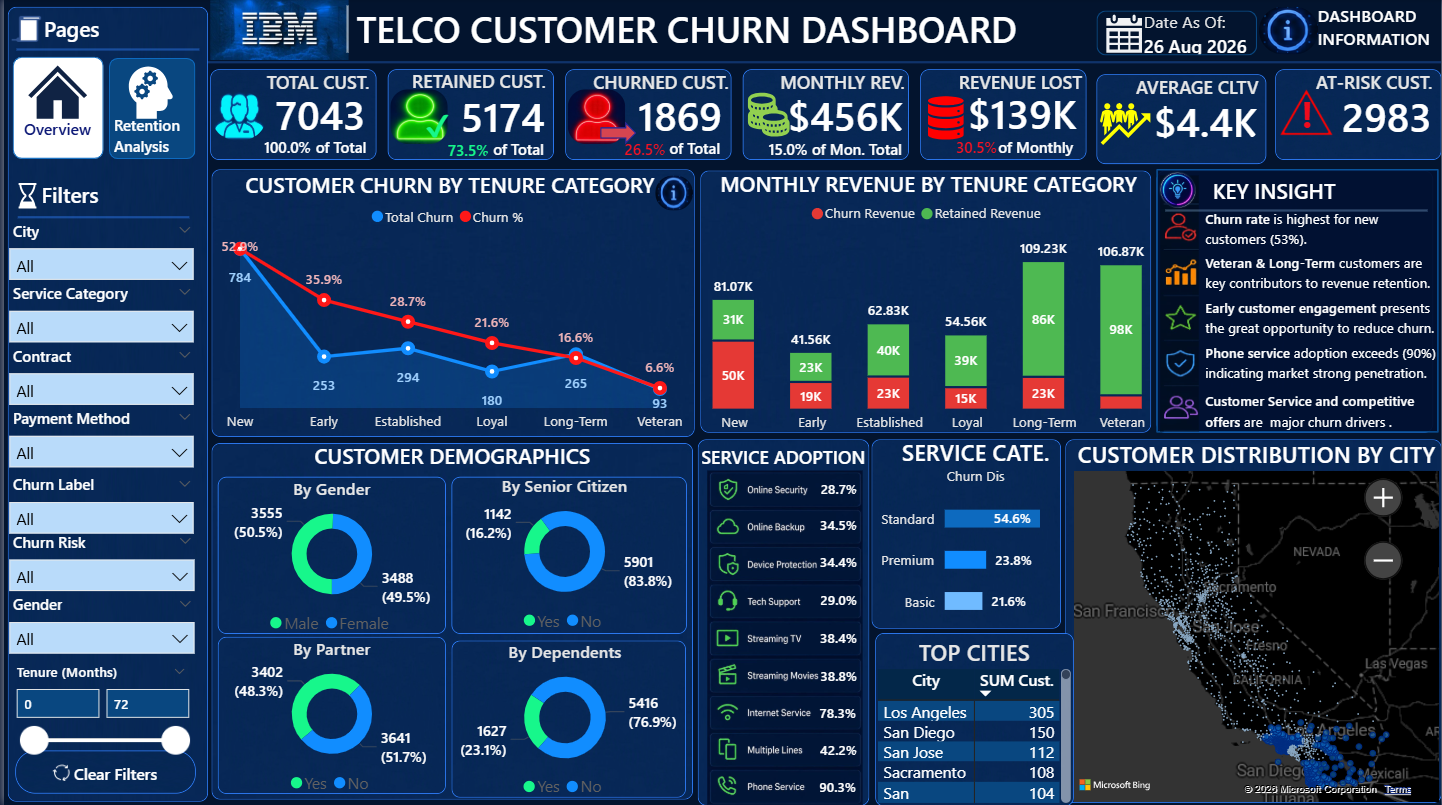

The dashboard page shown, as its layout file describes it:
{"tool":"powerbi","page":{"name":"Overview","canvas":[1280,720],"ordinal":0},"visuals":[{"type":"image","box":[1117.6,8.2,53,42.3],"z":0,"group":"g22"},{"type":"cardVisual","fields":{"Data":["_Measures.Date As Of"]},"box":[972.9,11.5,143.5,40.9],"z":0,"group":"g26"},{"type":"group","id":"g1","title":"Group 5","box":[8,52,85,91],"z":0,"group":"g17"},{"type":"group","id":"g2","title":"Group 7","box":[8,52,85,91],"z":0,"group":"g1"},{"type":"shape","box":[8,52,81,91],"z":0,"group":"g2"},{"type":"shape","box":[94,53,77,90],"z":0,"group":"g6"},{"type":"image","box":[1132,63,148,81],"z":0,"group":"g16"},{"type":"image","box":[973.7,67.5,151,80],"z":0,"group":"g21"},{"type":"textbox","box":[1145.5,81.2,30.2,78.4],"z":0,"group":"g28"},{"type":"image","box":[344.4,81.3,50.8,49.2],"z":0,"group":"g29"},{"type":"image","box":[501.5,81.8,50.8,49.2],"z":0,"group":"g30"},{"type":"image","box":[184.3,152.9,430,238],"z":0,"group":"g11"},{"type":"image","box":[1026.4,153.6,246,233.8],"z":0},{"type":"image","box":[620.6,154.1,401.2,233.8],"z":0,"group":"g20"},{"type":"image","box":[1027.5,154.7,35.6,32.3],"z":0,"group":"g23"},{"type":"image","box":[580,157.8,33.6,31.5],"z":0,"group":"g27"},{"type":"slicer","fields":{"Values":["dim_service.Service_Category"]},"box":[0,253.5,174,60],"z":0,"group":"g24"},{"type":"group","id":"g3","title":"Group 20","box":[772.8,393.1,170,169],"z":0,"group":"g19"},{"type":"group","id":"g4","title":"Group 19","box":[772.8,393.1,170,169],"z":0,"group":"g3"},{"type":"image","box":[772.8,393.1,168.9,169],"z":0,"group":"g4"},{"type":"image","box":[617.4,393.3,153.1,326.5],"z":0,"group":"g13"},{"type":"image","box":[945.1,393.4,334.8,324.4],"z":0,"group":"g15"},{"type":"group","id":"g5","title":"Group 16","box":[185,395.3,453.3,319.8],"z":0,"group":"g9"},{"type":"image","box":[185,395.3,429,317.8],"z":0,"group":"g5"},{"type":"image","box":[622.1,421,146.3,297.8],"z":0,"group":"g7"},{"type":"image","box":[398.3,425.1,209.8,139.8],"z":0,"group":"g12"},{"type":"image","box":[190.6,425.3,203.6,139.8],"z":0,"group":"g8"},{"type":"image","box":[775.6,565.6,176.7,154.4],"z":0,"group":"g18"},{"type":"image","box":[190.9,567.8,203.3,140],"z":0,"group":"g10"},{"type":"image","box":[398.4,570.9,208.9,140],"z":0,"group":"g14"},{"type":"image","box":[10,670,160.9,38],"z":0,"group":"g25"},{"type":"image","box":[974.7,8.2,45,48.2],"z":1000,"group":"g26"},{"type":"pieChart","fields":{"Category":["dim_churn.Churn_Label"],"Y":["_Measures.Churn %"]},"box":[1121.1,13.4,42.4,40.8],"z":1000,"group":"g22"},{"type":"group","id":"g6","title":"Group 6","box":[94,53,77,91],"z":1000,"group":"g17"},{"type":"image","box":[94,57,74,55],"z":1000,"group":"g6"},{"type":"image","box":[816,63,148,81],"z":1000,"group":"g16"},{"type":"textbox","box":[996,68,122,27],"z":1000,"group":"g21"},{"type":"image","box":[1135.8,79.9,48.9,42.4],"z":1000,"group":"g28"},{"type":"textbox","box":[375.8,94.2,32,46.7],"z":1000,"group":"g29"},{"type":"textbox","box":[18,107,75,24],"z":1000,"group":"g2"},{"type":"shape","box":[530.4,110.7,32.2,20],"z":1000,"group":"g30"},{"type":"columnChart","title":"MONTHLY REVENUE BY TENURE CATEGORY","fields":{"Y":["_Service Measures.churn monthly charges","_Service Measures.retained monthly charges"],"Category":["fact_customer_churn.Cust_Tenure_Group"]},"box":[603.5,150.3,440,240],"z":1000,"group":"g20"},{"type":"areaChart","title":"CUSTOMER CHURN BY TENURE CATEGORY","fields":{"Y":["_Measures.Total Churn Customers"],"Y2":["_Measures.Churn %"],"Category":["fact_customer_churn.Cust_Tenure_Group"]},"box":[179.9,150.5,433.8,240],"z":1000,"group":"g11"},{"type":"shape","box":[1026.7,152.2,251.1,234.4],"z":1000},{"type":"textbox","box":[1076.4,158.8,111.3,26.7],"z":1000,"group":"g23"},{"type":"pieChart","fields":{"Category":["dim_churn.Churn_Label"],"Y":["_Measures.Churn %"]},"box":[582.2,161.7,26.8,30.4],"z":1000,"group":"g27"},{"type":"slicer","fields":{"Values":["dim_location.City"]},"box":[0,198,174,60],"z":1000,"group":"g24"},{"type":"map","title":"CUSTOMER DISTRIBUTION BY CITY","fields":{"Size":["_Measures.Total Customers"],"Y":["dim_location.Latitude"],"X":["dim_location.Longitude"]},"box":[950.6,379,329.6,339],"z":1000,"group":"g15"},{"type":"clusteredBarChart","title":"SERVICE CATE.","fields":{"Category":["dim_service.Service_Category"],"Y":["_Measures.%CHURN Service Dis"]},"box":[772.8,387.8,185.6,174.4],"z":1000,"group":"g19"},{"type":"textbox","box":[208.8,394.6,382.2,26.7],"z":1000,"group":"g9"},{"type":"group","id":"g7","title":"Group 21","box":[622.1,421,145.9,296.9],"z":1000,"group":"g13"},{"type":"donutChart","title":"By Senior Citizen","fields":{"Y":["_Measures.Total Customers"],"Category":["dim_customer.Senior_Citizen"]},"box":[398.3,423.1,201.5,144.7],"z":1000,"group":"g12"},{"type":"group","id":"g8","title":"Group 12","box":[190.6,425.3,203.6,144.7],"z":1000,"group":"g5"},{"type":"donutChart","title":"By Gender","fields":{"Category":["dim_customer.Gender"],"Y":["_Measures.Total Customers"]},"box":[195.8,425.3,192.2,144.7],"z":1000,"group":"g8"},{"type":"cardVisual","fields":{"Data":["_Service Measures.% 1_OS"]},"box":[707.3,426.5,52.8,18.7],"z":1000,"group":"g7"},{"type":"donutChart","title":"By Partner","fields":{"Y":["_Measures.Total Customers"],"Category":["dim_customer.Partner"]},"box":[196.5,567.8,192.2,144.4],"z":1000,"group":"g10"},{"type":"pivotTable","title":"TOP CITIES","fields":{"Rows":["dim_location.City"],"Values":["_Measures.Total Customers"]},"box":[777.8,568.9,172.2,147.8],"z":1000,"group":"g18"},{"type":"donutChart","title":"By Dependents","fields":{"Y":["_Measures.Total Customers"],"Category":["dim_customer.Dependents"]},"box":[360.6,570.6,277.8,144.4],"z":1000,"group":"g14"},{"type":"actionButton","box":[8.9,670,158.8,36.1],"z":1000,"group":"g25"},{"type":"pageNavigator","box":[6,51,169,96],"z":2000,"group":"g17"},{"type":"image","box":[18,52,60,63],"z":2000,"group":"g2"},{"type":"image","box":[658,63,148,81],"z":2000,"group":"g16"},{"type":"image","box":[973.3,85.6,51.1,51.1],"z":2000,"group":"g21"},{"type":"textbox","box":[99,103,67,41],"z":2000,"group":"g6"},{"type":"shape","box":[1034.2,180.3,233.8,17.8],"z":2000,"group":"g23"},{"type":"slicer","fields":{"Values":["dim_contract.Contract"]},"box":[0,309,174,60],"z":2000,"group":"g24"},{"type":"group","id":"g9","title":"Group 17","box":[185,394.6,453.3,320.4],"z":2000},{"type":"textbox","box":[607.8,397.5,172.4,25.5],"z":2000,"group":"g13"},{"type":"cardVisual","fields":{"Data":["_Service Measures.% 2_OB"]},"box":[707.3,458.8,52.9,18.6],"z":2000,"group":"g7"},{"type":"group","id":"g10","title":"Group 13","box":[190.9,567.8,203.3,144.4],"z":2000,"group":"g5"},{"type":"shape","box":[165,51,1115,12],"z":3000,"group":"g16"},{"type":"cardVisual","fields":{"Data":["_Measures.Avg CLTV"]},"box":[1006.6,88.9,110,36.7],"z":3000,"group":"g21"},{"type":"group","id":"g11","title":"Group 18","box":[179.9,150.5,434.4,240.4],"z":3000},{"type":"group","id":"g12","title":"Group 14","box":[398.3,423.1,209.8,144.7],"z":3000,"group":"g5"},{"type":"slicer","fields":{"Values":["dim_churn.Churn_Risk"]},"box":[0,475.5,174.4,60],"z":3000,"group":"g24"},{"type":"cardVisual","fields":{"Data":["_Service Measures.% 3_DP"]},"box":[707.3,491.1,52.9,20.1],"z":3000,"group":"g7"},{"type":"textbox","box":[314,6,599,62],"z":4000,"group":"g16"},{"type":"group","id":"g13","title":"Group 22","box":[607.8,393.3,172.2,326.7],"z":4000},{"type":"cardVisual","fields":{"Data":["_Service Measures.% 4_TS"]},"box":[707.3,524.8,52.9,20.1],"z":4000,"group":"g7"},{"type":"slicer","fields":{"Values":["dim_customer.Gender"]},"box":[0,531,174.4,60],"z":4000,"group":"g24"},{"type":"group","id":"g14","title":"Group 15","box":[360.6,570.6,277.8,144.4],"z":4000,"group":"g5"},{"type":"image","box":[184,0,123,55],"z":5000,"group":"g16"},{"type":"slicer","fields":{"Values":["dim_contract.Payment_Method"]},"box":[0,364.5,174,60],"z":5000,"group":"g24"},{"type":"group","id":"g15","title":"Group 23","box":[945.1,379,335.1,339],"z":5000},{"type":"cardVisual","fields":{"Data":["_Service Measures.% 5_ST"]},"box":[707.3,558.5,52.9,20.1],"z":5000,"group":"g7"},{"type":"group","id":"g16","title":"Group 11","box":[0,0,1280,716],"z":6000},{"type":"image","box":[3,8,178,708],"z":6000,"group":"g16"},{"type":"cardVisual","fields":{"Data":["_Service Measures.% 6_SM"]},"box":[707.3,592.2,52.9,20.1],"z":6000,"group":"g7"},{"type":"image","box":[184,63,148,81],"z":7000,"group":"g16"},{"type":"slicer","fields":{"Values":["fact_customer_churn.Tenure_Months"]},"box":[3.3,592.2,165.6,85.6],"z":7000},{"type":"cardVisual","fields":{"Data":["_Service Measures.% 7_IS"]},"box":[707.3,625.9,51.5,20.1],"z":7000,"group":"g7"},{"type":"shape","box":[300,7,13,42],"z":8000,"group":"g16"},{"type":"slicer","fields":{"Values":["dim_churn.Churn_Label"]},"box":[0,424.4,174,60],"z":8000},{"type":"cardVisual","fields":{"Data":["_Service Measures.% 8_ML"]},"box":[707.3,659.6,52.9,18.6],"z":8000,"group":"g7"},{"type":"group","id":"g17","title":"Group 1","box":[6,51,169,96],"z":9000,"group":"g16"},{"type":"group","id":"g18","title":"Group 24","box":[775.6,565.6,176.7,154.4],"z":9000},{"type":"cardVisual","fields":{"Data":["_Service Measures.% 9_PS"]},"box":[707.3,691.8,51.5,20.1],"z":9000,"group":"g7"},{"type":"shape","box":[11.5,39.6,162.8,11.5],"z":10000,"group":"g16"},{"type":"group","id":"g19","title":"Group 25","box":[772.8,387.8,185.6,174.4],"z":10000},{"type":"textbox","box":[36,14,50,30],"z":11000,"group":"g16"},{"type":"group","id":"g20","title":"Group 18","box":[603.5,150.3,440,240],"z":11000},{"type":"group","id":"g21","title":"Group 12","box":[973.3,67.5,151.4,80],"z":12000},{"type":"shape","box":[12,189,153,12],"z":12000,"group":"g16"},{"type":"group","id":"g22","title":"Group 26","box":[1117.6,8.2,52.9,45.9],"z":13000},{"type":"image","box":[7,11,26,33],"z":13000,"group":"g16"},{"type":"textbox","box":[1169.4,5.9,110.6,47.1],"z":14000},{"type":"image","box":[3,162,35,27],"z":14000,"group":"g16"},{"type":"image","box":[1020.8,158.1,52.3,228.2],"z":15000},{"type":"textbox","box":[33,162,57,30],"z":15000,"group":"g16"},{"type":"group","id":"g23","title":"Group 13","box":[1027.5,154.7,240.4,43.4],"z":16000},{"type":"group","id":"g24","title":"Group 2","box":[0,198,174.4,393],"z":16000,"group":"g16"},{"type":"textbox","box":[1070,185.6,162.2,38.9],"z":17000},{"type":"group","id":"g25","title":"Group 3","box":[8.9,670,161.2,37.3],"z":17000,"group":"g16"},{"type":"group","id":"g26","title":"Group 4","box":[972.9,8.2,143.5,48.2],"z":18000,"group":"g16"},{"type":"textbox","box":[1070,224.4,204.4,40],"z":18000},{"type":"image","box":[184.6,83.2,48.7,43.6],"z":19000,"group":"g16"},{"type":"textbox","box":[1070,305.6,207.8,38.9],"z":19000},{"type":"textbox","box":[1151,64,121,24],"z":20000,"group":"g16"},{"type":"textbox","box":[1070,264.4,206.7,41.1],"z":20000},{"type":"textbox","box":[838,63,122,23],"z":21000,"group":"g16"},{"type":"textbox","box":[1070,348.9,204.4,38.9],"z":21000},{"type":"textbox","box":[669,63,133,22],"z":22000,"group":"g16"},{"type":"group","id":"g27","title":"Group 26","box":[580,157.8,33.3,34.4],"z":22000},{"type":"textbox","box":[230,63,95,23],"z":23000,"group":"g16"},{"type":"image","box":[342,63,148,81],"z":24000,"group":"g16"},{"type":"image","box":[500,63,148,81],"z":25000,"group":"g16"},{"type":"image","box":[811.7,82.9,54.7,48.9],"z":26000,"group":"g16"},{"type":"image","box":[659,78.1,42,52],"z":27000,"group":"g16"},{"type":"group","id":"g28","title":"Group 8","box":[1135.8,79.9,48.9,79.6],"z":28000,"group":"g16"},{"type":"group","id":"g29","title":"Group 9","box":[344.4,81.3,63.4,59.6],"z":29000,"group":"g16"},{"type":"group","id":"g30","title":"Group 10","box":[501.5,81.8,61.1,49.2],"z":30000,"group":"g16"},{"type":"textbox","box":[352,62.7,130.7,22.7],"z":31000,"group":"g16"},{"type":"textbox","box":[523,63.8,122,22],"z":32000,"group":"g16"},{"type":"cardVisual","fields":{"Data":["_Measures.Total Customers"]},"box":[239.4,85.1,85.4,35.8],"z":33000,"group":"g16"},{"type":"cardVisual","fields":{"Data":["_Measures.Total Churn Customers"]},"box":[534.6,85,105.1,35.9],"z":34000,"group":"g16"},{"type":"cardVisual","fields":{"Data":["_Measures.Total Active Customers"]},"box":[367.8,85,114.5,36.2],"z":35000,"group":"g16"},{"type":"cardVisual","fields":{"Data":["_Measures.Churn Revenue Loss"]},"box":[854,84,106.7,35.6],"z":36000,"group":"g16"},{"type":"cardVisual","fields":{"Data":["_Measures.At-Risk Cust."]},"box":[1184.7,85,87.6,36.5],"z":37000,"group":"g16"},{"type":"cardVisual","fields":{"Data":["_Measures.Monthly Charges"]},"box":[697,84.5,105.1,35.9],"z":38000,"group":"g16"},{"type":"cardVisual","fields":{"Data":["_Measures.% of Total"]},"box":[222,122.5,52.5,18.9],"z":39000,"group":"g16"},{"type":"cardVisual","fields":{"Data":["_Measures.Churn %"]},"box":[533,123.3,56.7,19.7],"z":40000,"group":"g16"},{"type":"cardVisual","fields":{"Data":["_Measures.Active %"]},"box":[381,124.2,51.7,18.5],"z":41000,"group":"g16"},{"type":"cardVisual","fields":{"Data":["_Measures.% Churn Revenue Loss"]},"box":[830,122.9,54.2,19.3],"z":42000,"group":"g16"},{"type":"textbox","box":[274,123,58,18],"z":43000,"group":"g16"},{"type":"textbox","box":[589,124,69,21],"z":44000,"group":"g16"},{"type":"textbox","box":[432,125,58,18],"z":45000,"group":"g16"},{"type":"textbox","box":[882,123,84,21],"z":46000,"group":"g16"},{"type":"textbox","box":[715.6,124.4,123.3,21.1],"z":46501},{"type":"cardVisual","fields":{"Data":["_Measures.% Monthly Total"]},"box":[663.3,115.6,52.2,35.6],"z":47001}]}

Visuals, with their boxes on the page's 1280x720 design canvas (x1, y1, x2, y2). These are canvas units, not pixel positions in the 1442x805 screenshot, which may show the page scaled, cropped or inside an application window:
image: pyautogui.locateOnScreen(1118, 8, 1171, 50)
cardVisual - _Measures.Date As Of: pyautogui.locateOnScreen(973, 12, 1116, 52)
"Group 5" group: pyautogui.locateOnScreen(8, 52, 93, 143)
"Group 7" group: pyautogui.locateOnScreen(8, 52, 93, 143)
shape: pyautogui.locateOnScreen(8, 52, 89, 143)
shape: pyautogui.locateOnScreen(94, 53, 171, 143)
image: pyautogui.locateOnScreen(1132, 63, 1280, 144)
image: pyautogui.locateOnScreen(974, 68, 1125, 148)
textbox: pyautogui.locateOnScreen(1146, 81, 1176, 160)
image: pyautogui.locateOnScreen(344, 81, 395, 130)
image: pyautogui.locateOnScreen(502, 82, 552, 131)
image: pyautogui.locateOnScreen(184, 153, 614, 391)
image: pyautogui.locateOnScreen(1026, 154, 1272, 387)
image: pyautogui.locateOnScreen(621, 154, 1022, 388)
image: pyautogui.locateOnScreen(1028, 155, 1063, 187)
image: pyautogui.locateOnScreen(580, 158, 614, 189)
slicer - dim_service.Service_Category: pyautogui.locateOnScreen(0, 254, 174, 314)
"Group 20" group: pyautogui.locateOnScreen(773, 393, 943, 562)
"Group 19" group: pyautogui.locateOnScreen(773, 393, 943, 562)
image: pyautogui.locateOnScreen(773, 393, 942, 562)
image: pyautogui.locateOnScreen(617, 393, 770, 720)
image: pyautogui.locateOnScreen(945, 393, 1280, 718)
"Group 16" group: pyautogui.locateOnScreen(185, 395, 638, 715)
image: pyautogui.locateOnScreen(185, 395, 614, 713)
image: pyautogui.locateOnScreen(622, 421, 768, 719)
image: pyautogui.locateOnScreen(398, 425, 608, 565)
image: pyautogui.locateOnScreen(191, 425, 394, 565)
image: pyautogui.locateOnScreen(776, 566, 952, 720)
image: pyautogui.locateOnScreen(191, 568, 394, 708)
image: pyautogui.locateOnScreen(398, 571, 607, 711)
image: pyautogui.locateOnScreen(10, 670, 171, 708)
image: pyautogui.locateOnScreen(975, 8, 1020, 56)
pieChart - dim_churn.Churn_Label x _Measures.Churn %: pyautogui.locateOnScreen(1121, 13, 1164, 54)
"Group 6" group: pyautogui.locateOnScreen(94, 53, 171, 144)
image: pyautogui.locateOnScreen(94, 57, 168, 112)
image: pyautogui.locateOnScreen(816, 63, 964, 144)
textbox: pyautogui.locateOnScreen(996, 68, 1118, 95)
image: pyautogui.locateOnScreen(1136, 80, 1185, 122)
textbox: pyautogui.locateOnScreen(376, 94, 408, 141)
textbox: pyautogui.locateOnScreen(18, 107, 93, 131)
shape: pyautogui.locateOnScreen(530, 111, 563, 131)
"MONTHLY REVENUE BY TENURE CATEGORY" columnChart: pyautogui.locateOnScreen(604, 150, 1044, 390)
"CUSTOMER CHURN BY TENURE CATEGORY" areaChart: pyautogui.locateOnScreen(180, 150, 614, 390)
shape: pyautogui.locateOnScreen(1027, 152, 1278, 387)
textbox: pyautogui.locateOnScreen(1076, 159, 1188, 186)
pieChart - dim_churn.Churn_Label x _Measures.Churn %: pyautogui.locateOnScreen(582, 162, 609, 192)
slicer - dim_location.City: pyautogui.locateOnScreen(0, 198, 174, 258)
"CUSTOMER DISTRIBUTION BY CITY" map: pyautogui.locateOnScreen(951, 379, 1280, 718)
"SERVICE CATE." clusteredBarChart: pyautogui.locateOnScreen(773, 388, 958, 562)
textbox: pyautogui.locateOnScreen(209, 395, 591, 421)
"Group 21" group: pyautogui.locateOnScreen(622, 421, 768, 718)
"By Senior Citizen" donutChart: pyautogui.locateOnScreen(398, 423, 600, 568)
"Group 12" group: pyautogui.locateOnScreen(191, 425, 394, 570)
"By Gender" donutChart: pyautogui.locateOnScreen(196, 425, 388, 570)
cardVisual - _Service Measures.% 1_OS: pyautogui.locateOnScreen(707, 426, 760, 445)
"By Partner" donutChart: pyautogui.locateOnScreen(196, 568, 389, 712)
"TOP CITIES" pivotTable: pyautogui.locateOnScreen(778, 569, 950, 717)
"By Dependents" donutChart: pyautogui.locateOnScreen(361, 571, 638, 715)
actionButton: pyautogui.locateOnScreen(9, 670, 168, 706)
pageNavigator: pyautogui.locateOnScreen(6, 51, 175, 147)
image: pyautogui.locateOnScreen(18, 52, 78, 115)
image: pyautogui.locateOnScreen(658, 63, 806, 144)
image: pyautogui.locateOnScreen(973, 86, 1024, 137)
textbox: pyautogui.locateOnScreen(99, 103, 166, 144)
shape: pyautogui.locateOnScreen(1034, 180, 1268, 198)
slicer - dim_contract.Contract: pyautogui.locateOnScreen(0, 309, 174, 369)
"Group 17" group: pyautogui.locateOnScreen(185, 395, 638, 715)
textbox: pyautogui.locateOnScreen(608, 398, 780, 423)
cardVisual - _Service Measures.% 2_OB: pyautogui.locateOnScreen(707, 459, 760, 477)
"Group 13" group: pyautogui.locateOnScreen(191, 568, 394, 712)
shape: pyautogui.locateOnScreen(165, 51, 1280, 63)
cardVisual - _Measures.Avg CLTV: pyautogui.locateOnScreen(1007, 89, 1117, 126)
"Group 18" group: pyautogui.locateOnScreen(180, 150, 614, 391)
"Group 14" group: pyautogui.locateOnScreen(398, 423, 608, 568)
slicer - dim_churn.Churn_Risk: pyautogui.locateOnScreen(0, 476, 174, 536)
cardVisual - _Service Measures.% 3_DP: pyautogui.locateOnScreen(707, 491, 760, 511)
textbox: pyautogui.locateOnScreen(314, 6, 913, 68)
"Group 22" group: pyautogui.locateOnScreen(608, 393, 780, 720)
cardVisual - _Service Measures.% 4_TS: pyautogui.locateOnScreen(707, 525, 760, 545)
slicer - dim_customer.Gender: pyautogui.locateOnScreen(0, 531, 174, 591)
"Group 15" group: pyautogui.locateOnScreen(361, 571, 638, 715)
image: pyautogui.locateOnScreen(184, 0, 307, 55)
slicer - dim_contract.Payment_Method: pyautogui.locateOnScreen(0, 364, 174, 424)
"Group 23" group: pyautogui.locateOnScreen(945, 379, 1280, 718)
cardVisual - _Service Measures.% 5_ST: pyautogui.locateOnScreen(707, 558, 760, 579)
"Group 11" group: pyautogui.locateOnScreen(0, 0, 1280, 716)
image: pyautogui.locateOnScreen(3, 8, 181, 716)
cardVisual - _Service Measures.% 6_SM: pyautogui.locateOnScreen(707, 592, 760, 612)
image: pyautogui.locateOnScreen(184, 63, 332, 144)
slicer - fact_customer_churn.Tenure_Months: pyautogui.locateOnScreen(3, 592, 169, 678)
cardVisual - _Service Measures.% 7_IS: pyautogui.locateOnScreen(707, 626, 759, 646)
shape: pyautogui.locateOnScreen(300, 7, 313, 49)
slicer - dim_churn.Churn_Label: pyautogui.locateOnScreen(0, 424, 174, 484)
cardVisual - _Service Measures.% 8_ML: pyautogui.locateOnScreen(707, 660, 760, 678)
"Group 1" group: pyautogui.locateOnScreen(6, 51, 175, 147)
"Group 24" group: pyautogui.locateOnScreen(776, 566, 952, 720)
cardVisual - _Service Measures.% 9_PS: pyautogui.locateOnScreen(707, 692, 759, 712)
shape: pyautogui.locateOnScreen(12, 40, 174, 51)
"Group 25" group: pyautogui.locateOnScreen(773, 388, 958, 562)
textbox: pyautogui.locateOnScreen(36, 14, 86, 44)
"Group 18" group: pyautogui.locateOnScreen(604, 150, 1044, 390)
"Group 12" group: pyautogui.locateOnScreen(973, 68, 1125, 148)
shape: pyautogui.locateOnScreen(12, 189, 165, 201)
"Group 26" group: pyautogui.locateOnScreen(1118, 8, 1170, 54)
image: pyautogui.locateOnScreen(7, 11, 33, 44)
textbox: pyautogui.locateOnScreen(1169, 6, 1280, 53)
image: pyautogui.locateOnScreen(3, 162, 38, 189)
image: pyautogui.locateOnScreen(1021, 158, 1073, 386)
textbox: pyautogui.locateOnScreen(33, 162, 90, 192)
"Group 13" group: pyautogui.locateOnScreen(1028, 155, 1268, 198)
"Group 2" group: pyautogui.locateOnScreen(0, 198, 174, 591)
textbox: pyautogui.locateOnScreen(1070, 186, 1232, 224)
"Group 3" group: pyautogui.locateOnScreen(9, 670, 170, 707)
"Group 4" group: pyautogui.locateOnScreen(973, 8, 1116, 56)
textbox: pyautogui.locateOnScreen(1070, 224, 1274, 264)
image: pyautogui.locateOnScreen(185, 83, 233, 127)
textbox: pyautogui.locateOnScreen(1070, 306, 1278, 344)
textbox: pyautogui.locateOnScreen(1151, 64, 1272, 88)
textbox: pyautogui.locateOnScreen(1070, 264, 1277, 306)
textbox: pyautogui.locateOnScreen(838, 63, 960, 86)
textbox: pyautogui.locateOnScreen(1070, 349, 1274, 388)
textbox: pyautogui.locateOnScreen(669, 63, 802, 85)
"Group 26" group: pyautogui.locateOnScreen(580, 158, 613, 192)
textbox: pyautogui.locateOnScreen(230, 63, 325, 86)
image: pyautogui.locateOnScreen(342, 63, 490, 144)
image: pyautogui.locateOnScreen(500, 63, 648, 144)
image: pyautogui.locateOnScreen(812, 83, 866, 132)
image: pyautogui.locateOnScreen(659, 78, 701, 130)
"Group 8" group: pyautogui.locateOnScreen(1136, 80, 1185, 160)
"Group 9" group: pyautogui.locateOnScreen(344, 81, 408, 141)
"Group 10" group: pyautogui.locateOnScreen(502, 82, 563, 131)
textbox: pyautogui.locateOnScreen(352, 63, 483, 85)
textbox: pyautogui.locateOnScreen(523, 64, 645, 86)
cardVisual - _Measures.Total Customers: pyautogui.locateOnScreen(239, 85, 325, 121)
cardVisual - _Measures.Total Churn Customers: pyautogui.locateOnScreen(535, 85, 640, 121)
cardVisual - _Measures.Total Active Customers: pyautogui.locateOnScreen(368, 85, 482, 121)
cardVisual - _Measures.Churn Revenue Loss: pyautogui.locateOnScreen(854, 84, 961, 120)
cardVisual - _Measures.At-Risk Cust.: pyautogui.locateOnScreen(1185, 85, 1272, 122)
cardVisual - _Measures.Monthly Charges: pyautogui.locateOnScreen(697, 84, 802, 120)
cardVisual - _Measures.% of Total: pyautogui.locateOnScreen(222, 122, 274, 141)
cardVisual - _Measures.Churn %: pyautogui.locateOnScreen(533, 123, 590, 143)
cardVisual - _Measures.Active %: pyautogui.locateOnScreen(381, 124, 433, 143)
cardVisual - _Measures.% Churn Revenue Loss: pyautogui.locateOnScreen(830, 123, 884, 142)
textbox: pyautogui.locateOnScreen(274, 123, 332, 141)
textbox: pyautogui.locateOnScreen(589, 124, 658, 145)
textbox: pyautogui.locateOnScreen(432, 125, 490, 143)
textbox: pyautogui.locateOnScreen(882, 123, 966, 144)
textbox: pyautogui.locateOnScreen(716, 124, 839, 146)
cardVisual - _Measures.% Monthly Total: pyautogui.locateOnScreen(663, 116, 716, 151)
